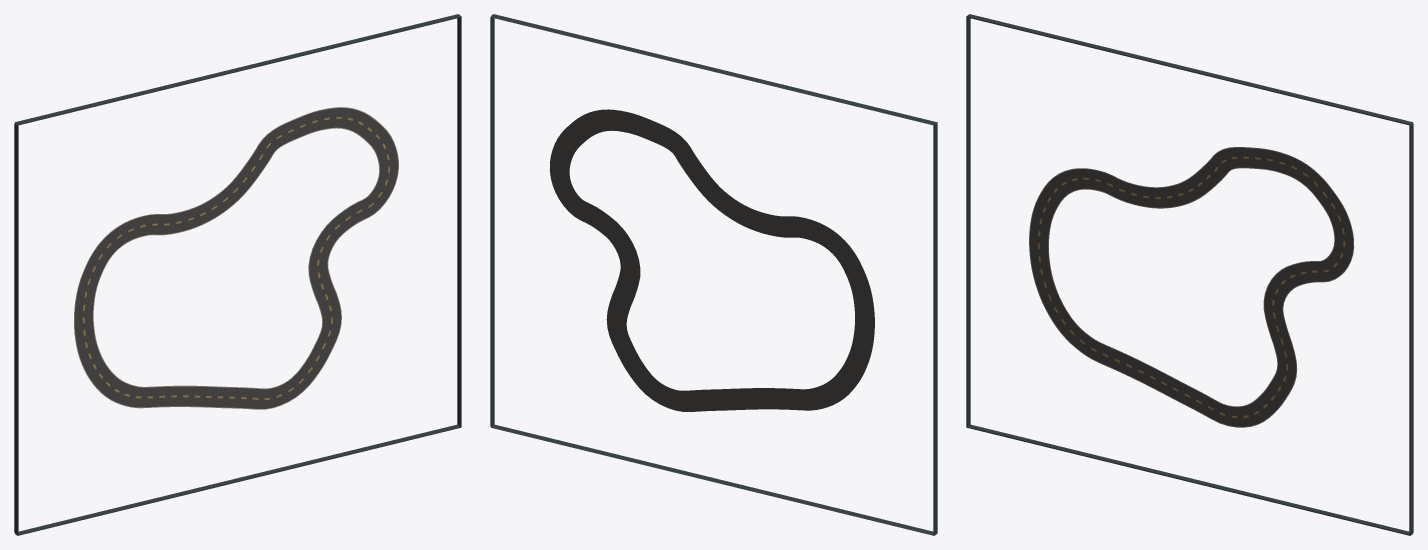
File: track.obj
3 views of the same model, side by side, from view 1: azimuth 30°, elevation 25°; view 2: azimuth 150°, elevation 25°; view 3: azimuth 330°, elevation 25° (orthographic).
Bounding box in the file's own units: 23.85 × 21.11 × 0.3.
4 materials, 4 textured.
